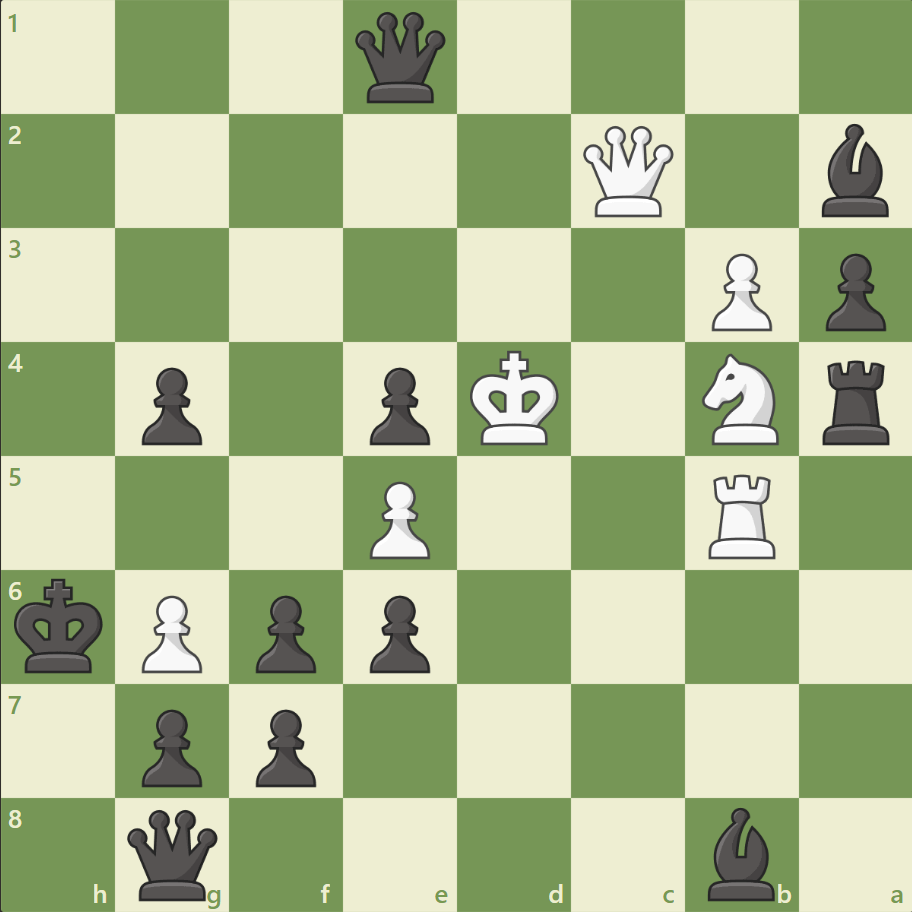K: (465, 344, 565, 452)
N: (692, 348, 789, 450)
P: (133, 586, 208, 677), (701, 246, 776, 337), (361, 473, 435, 564)
Q: (578, 122, 677, 222)
R: (700, 466, 783, 563)
b: (698, 801, 782, 904), (812, 120, 896, 222)
k: (11, 571, 111, 679)
p: (247, 700, 322, 791), (133, 700, 208, 791), (247, 586, 322, 677), (133, 359, 208, 450), (361, 586, 435, 677), (361, 359, 435, 450), (815, 246, 889, 337)
q: (124, 804, 223, 903), (351, 9, 450, 108)
r: (814, 352, 897, 449)
